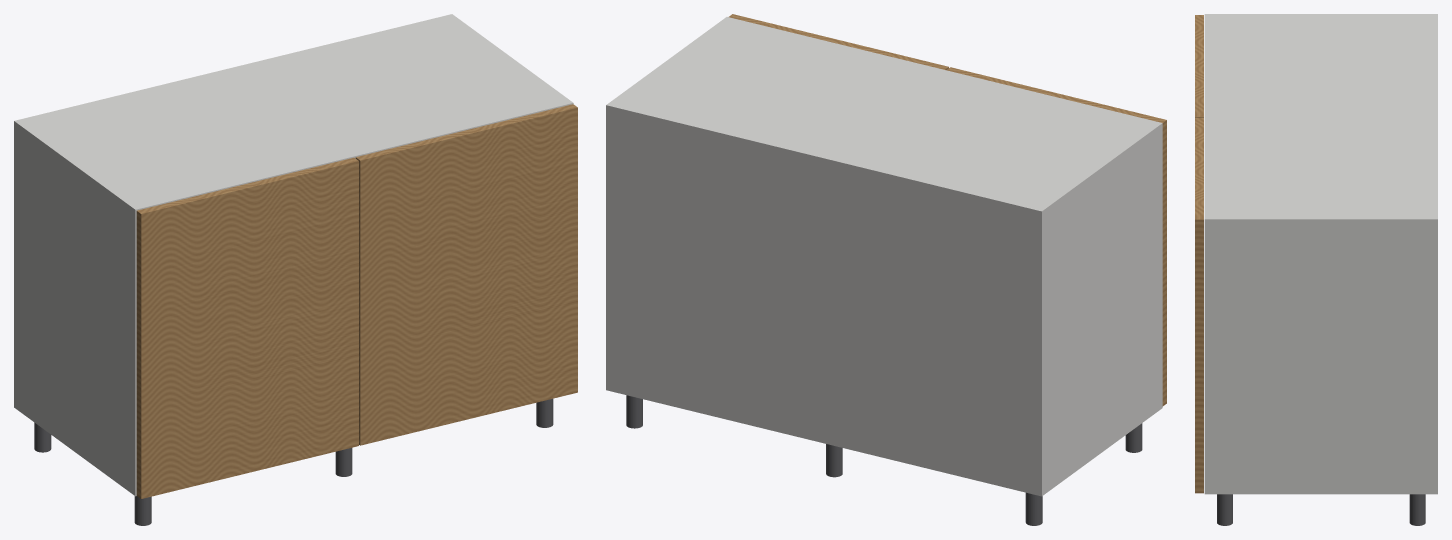
The model's file is w1200_inset_pair_closed.glb.
3 views of the same model, side by side, from view 1: azimuth 30°, elevation 25°; view 2: azimuth 150°, elevation 25°; view 3: azimuth 270°, elevation 25° (orthographic). The views are drawn at different scales.
Parts seen in each view (by area): view 1: oak, white, leg; view 2: white, oak, leg; view 3: white, oak, leg.
Boxes of the visible parts, x1=… form: oak: x1=136, y1=104, x2=577, y2=498; white: x1=14, y1=14, x2=573, y2=496; leg: x1=34, y1=398, x2=553, y2=525; white: x1=606, y1=17, x2=1162, y2=496; oak: x1=729, y1=14, x2=1166, y2=406; leg: x1=626, y1=395, x2=1142, y2=525; white: x1=1204, y1=14, x2=1437, y2=494; oak: x1=1195, y1=15, x2=1203, y2=493; leg: x1=1217, y1=494, x2=1425, y2=525.
Bounding box in the file's own units: 1.2 × 0.85 × 0.6.
Materials: 3 (1 with a texture image).
